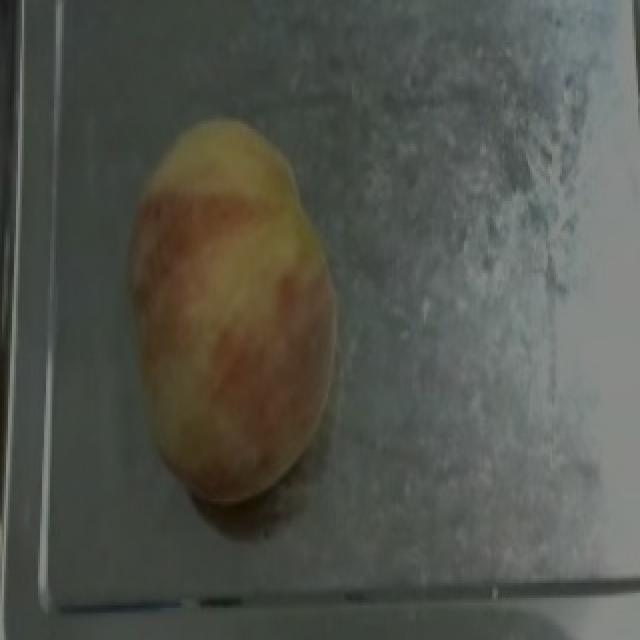Fruit: (108, 109, 354, 387)
